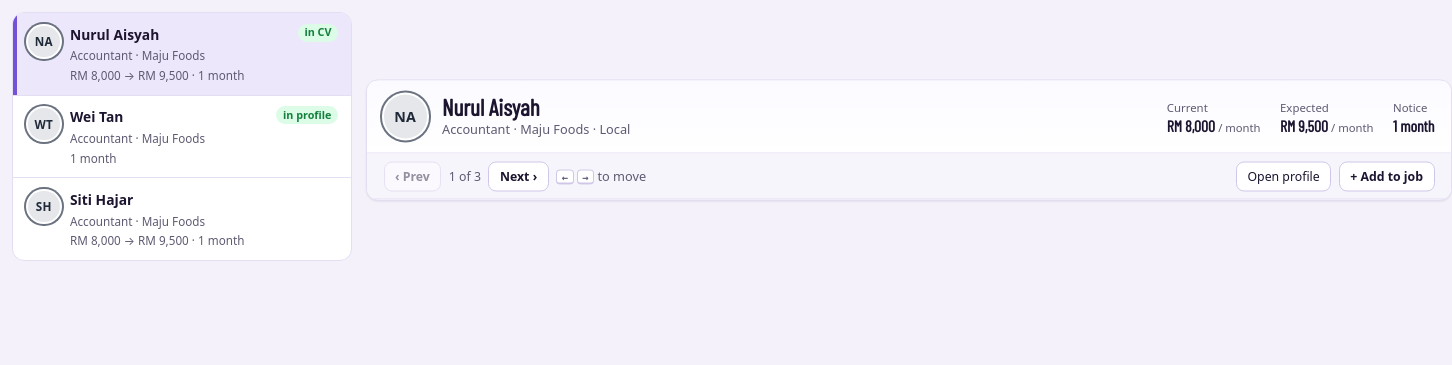
Test: reading search results as resumes › adds the candidate to an open job
Step 1. Click the button "+ Add to job" → coordinates (1387, 176), box [1339,161,1434,191]
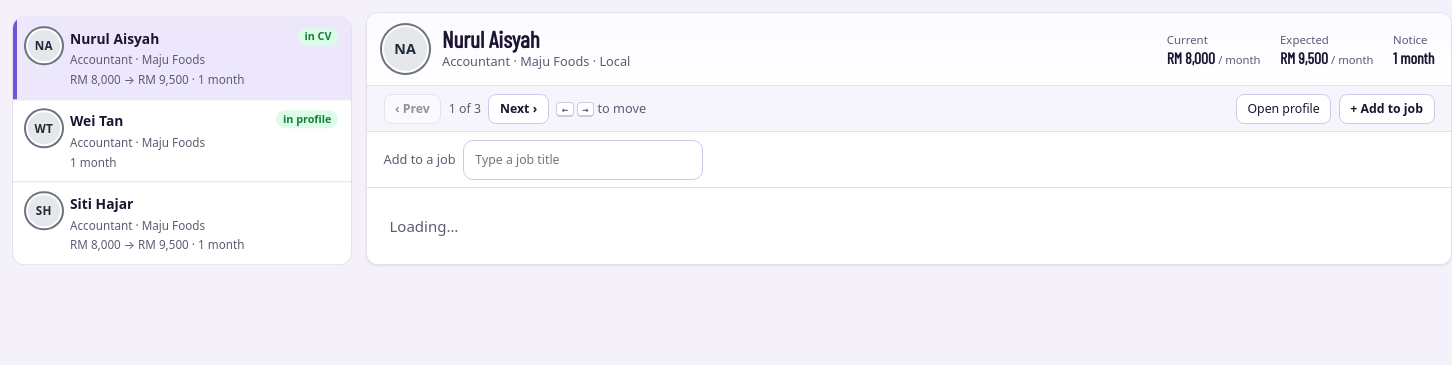
Step 2. Type "finance" into the field with placeholder "Type a job title" → coordinates (583, 160), box [463,140,703,180]
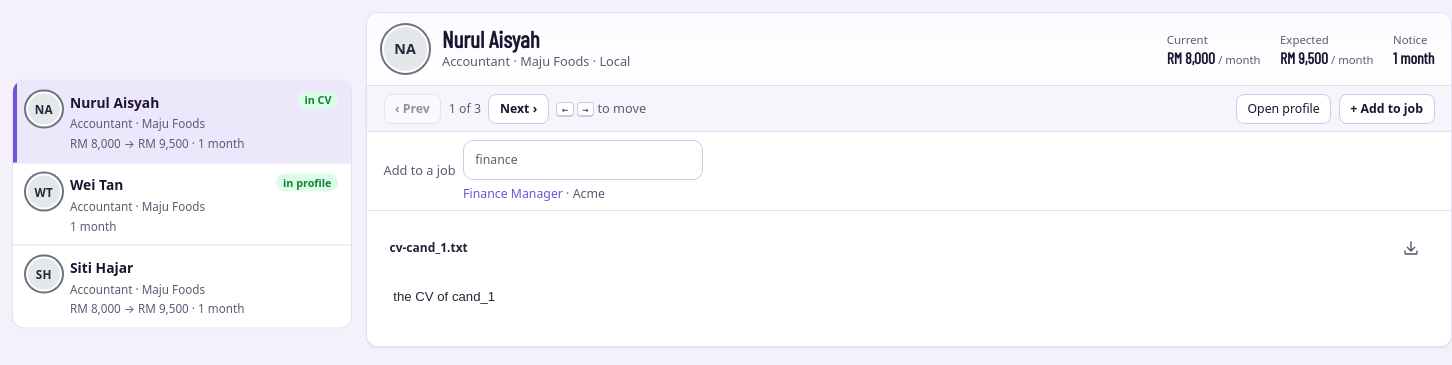
Step 3. Click the button "Finance Manager · Acme" → coordinates (534, 193), box [463,184,605,203]
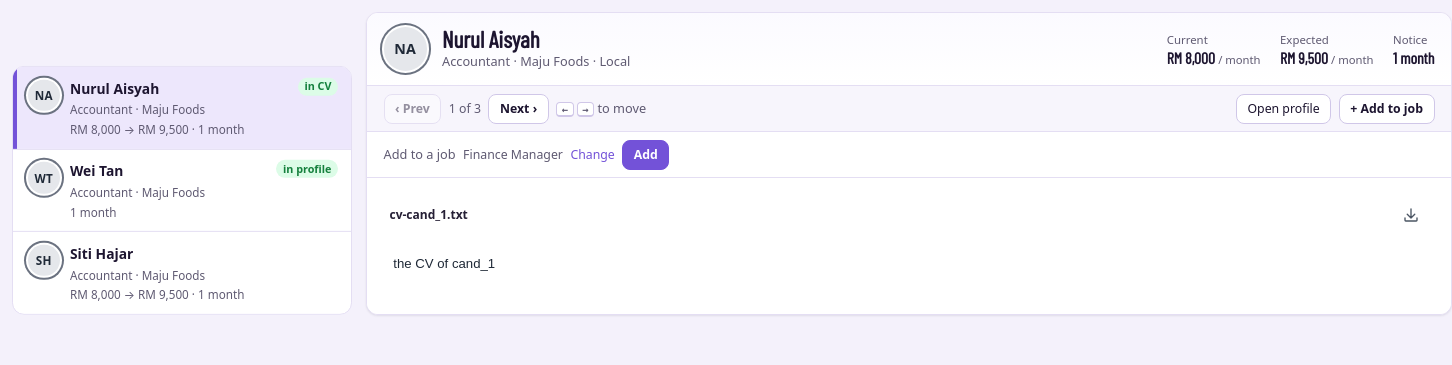
Step 4. Click the button "Add" → coordinates (646, 155), box [622,140,669,170]
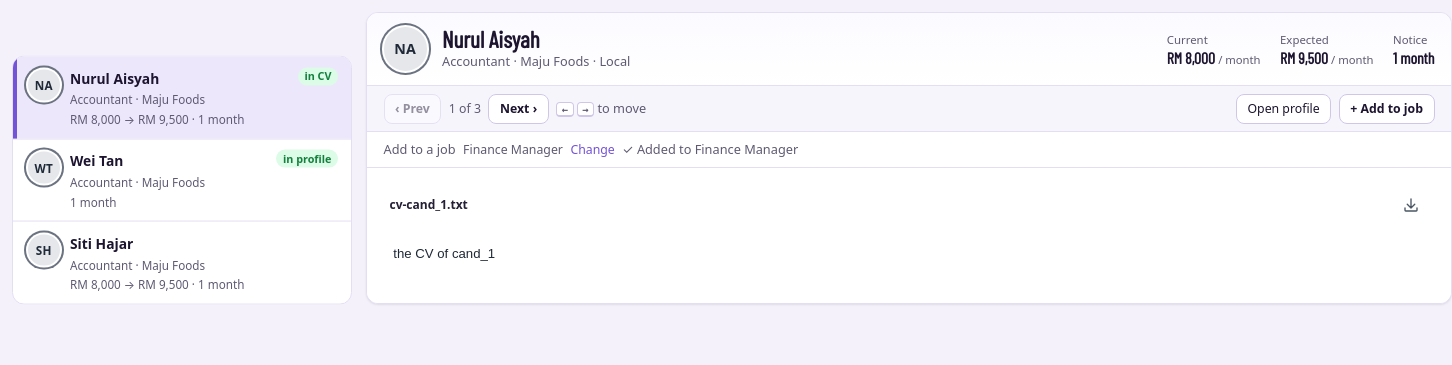
Check: the text "✓ Added to Finance Manager" is shown, box [622,140,798,160]
